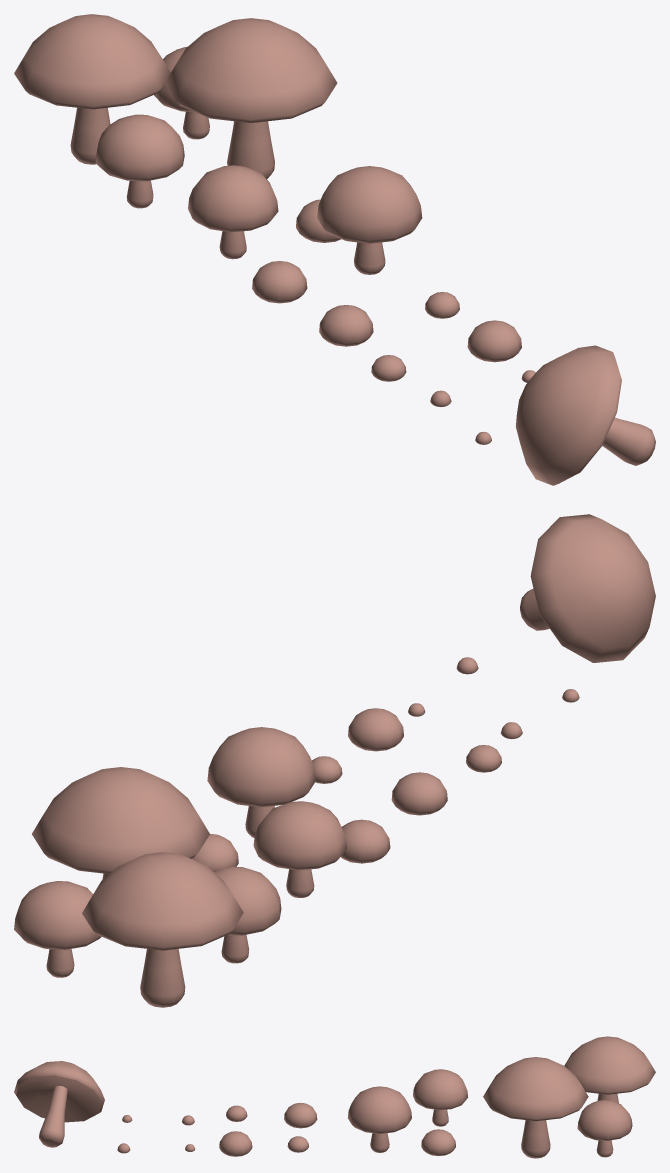
The model's file is MushroomTexturingFile.fbx.
3 renders of one model, top to bottom at view 1: azimuth 30°, elevation 25°; view 2: azimuth 150°, elevation 25°; view 3: azimuth 270°, elevation 25°, orthographic. The views are drawn at different scales.
Parts seen in each view (by area): view 1: SM_Mushroom_Growing3, SM_Mushroom_Growing2, SM_Mushroom, SM_Mushroom_Growing1; view 2: SM_Mushroom_Growing3, SM_Mushroom_Growing2, SM_Mushroom, SM_Mushroom_Growing1, SM_Mushroom_Seed; view 3: SM_Mushroom_Growing3, SM_Mushroom_Growing2, SM_Mushroom, SM_Mushroom_Growing1, SM_Mushroom_Seed.
Part boxes in pixels (left/top/right/bottom): SM_Mushroom_Growing3: left=14, top=14, right=337, bottom=208; SM_Mushroom_Growing2: left=188, top=165, right=422, bottom=303; SM_Mushroom: left=515, top=345, right=655, bottom=485; SM_Mushroom_Growing1: left=319, top=292, right=521, bottom=381; SM_Mushroom_Growing3: left=14, top=767, right=281, bottom=1007; SM_Mushroom_Growing2: left=191, top=727, right=390, bottom=897; SM_Mushroom: left=520, top=514, right=655, bottom=662; SM_Mushroom_Growing1: left=312, top=708, right=501, bottom=815; SM_Mushroom_Seed: left=408, top=657, right=579, bottom=739; SM_Mushroom_Growing3: left=483, top=1036, right=655, bottom=1158; SM_Mushroom_Growing2: left=348, top=1069, right=468, bottom=1156; SM_Mushroom: left=14, top=1061, right=104, bottom=1147; SM_Mushroom_Growing1: left=219, top=1102, right=317, bottom=1156; SM_Mushroom_Seed: left=117, top=1115, right=195, bottom=1153.
Bounding box in the file's own units: 62.49 × 37.41 × 234.
